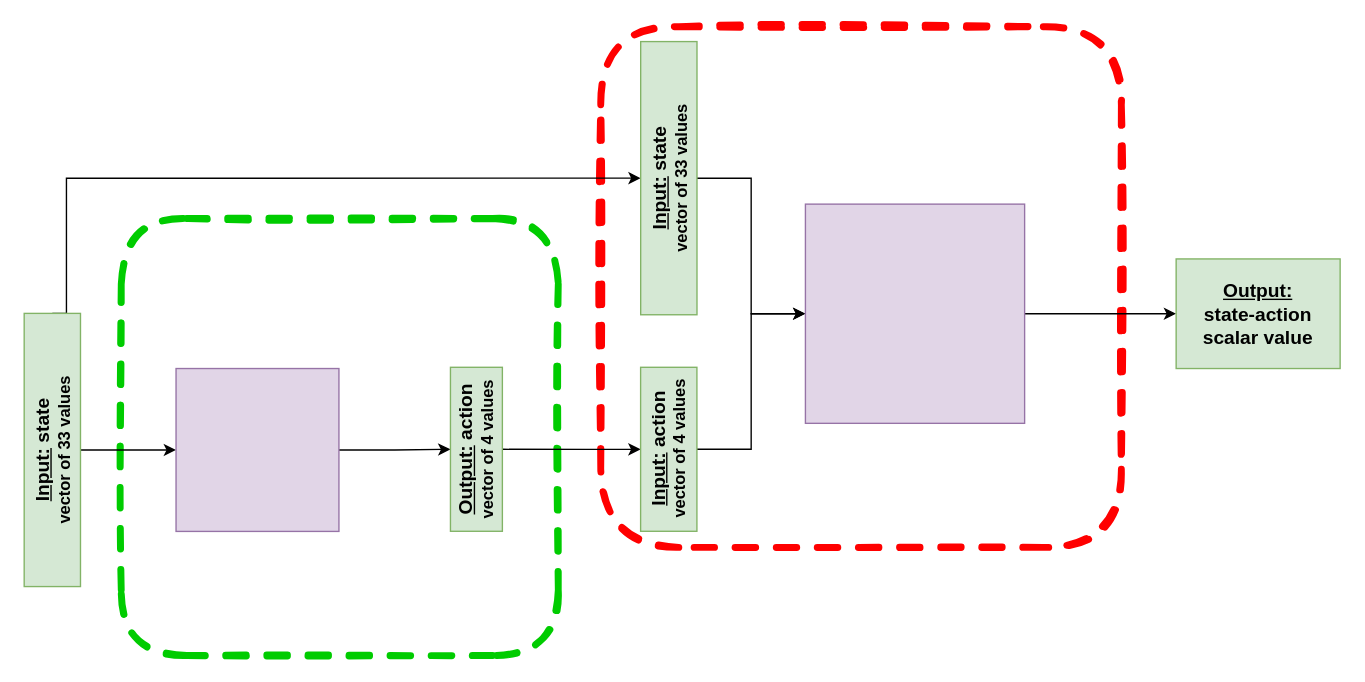
This 1365x682 diagram has some shape labels left out. The shapes that lost their labels are listed below. From the top down, each one's box as (x1, y1, x2, y2) in pixels, then its label:
(804, 203, 1025, 423): Freezed Critic Network
(175, 367, 339, 531): Actor Network
